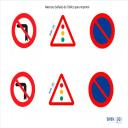NoVirarEsquerda: (10, 11, 38, 50), (9, 70, 36, 107)
